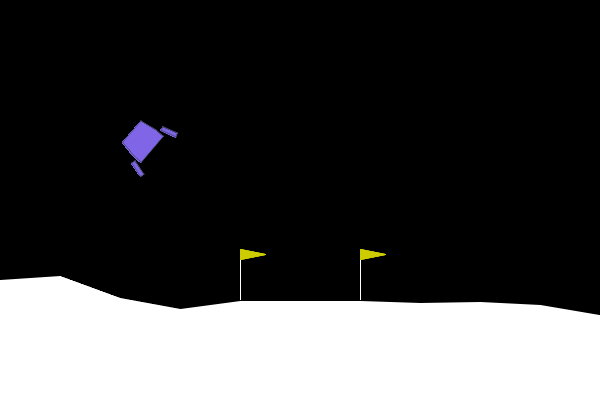lander: (110, 108, 180, 179)
